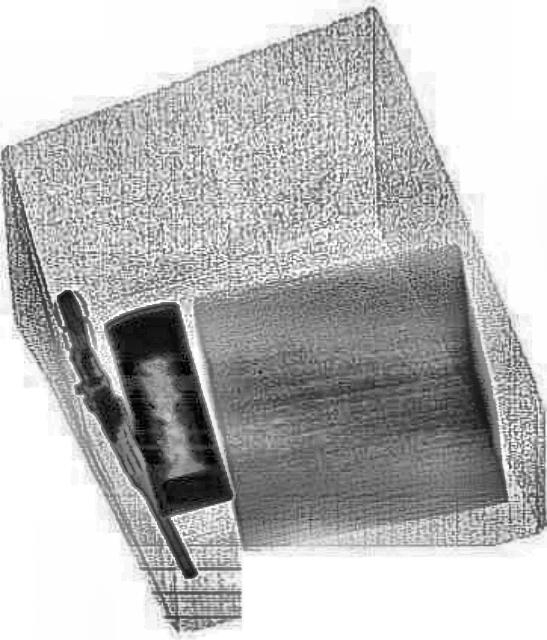Gun: (39, 291, 203, 581)
